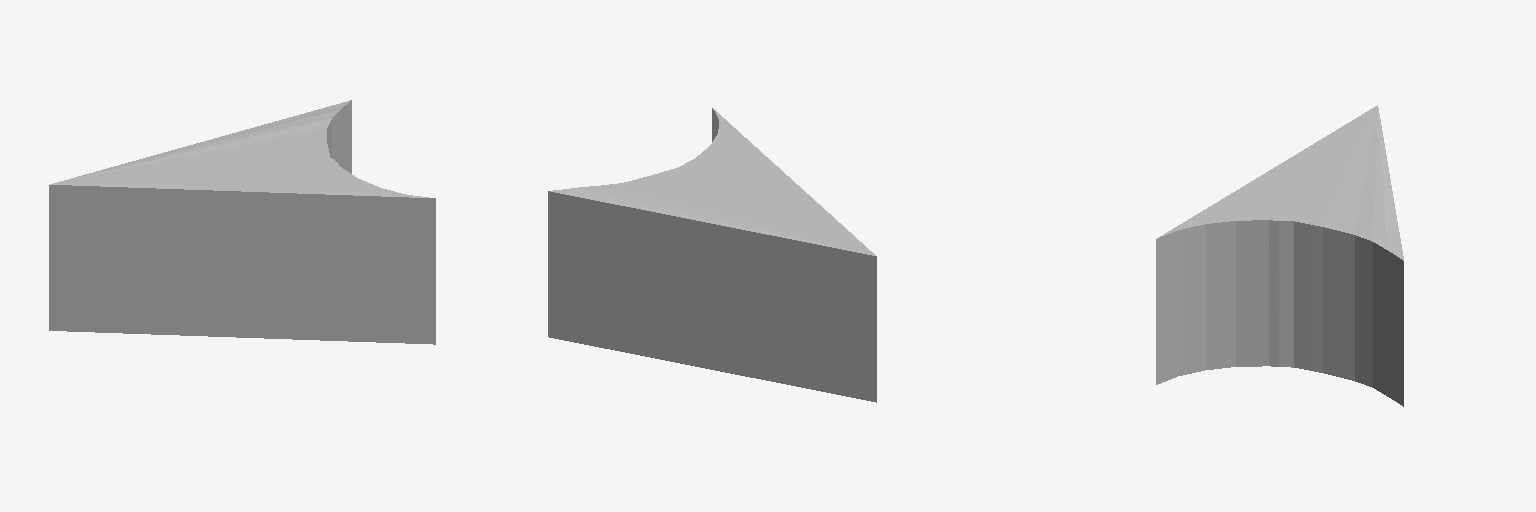
File: launchguard2.obj
3 views of the same model, side by side, from view 1: azimuth 30°, elevation 25°; view 2: azimuth 150°, elevation 25°; view 3: azimuth 270°, elevation 25° (orthographic).
Parts seen in each view (by area): view 1: Bumper_Cylinder; view 2: Bumper_Cylinder; view 3: Bumper_Cylinder.
Boxes of the visible parts, x1=… form: Bumper_Cylinder: x1=49, y1=100, x2=435, y2=344; Bumper_Cylinder: x1=548, y1=108, x2=876, y2=402; Bumper_Cylinder: x1=1156, y1=105, x2=1403, y2=406.
Size of the model in its own units: 4.53 by 2.03 by 3.08.